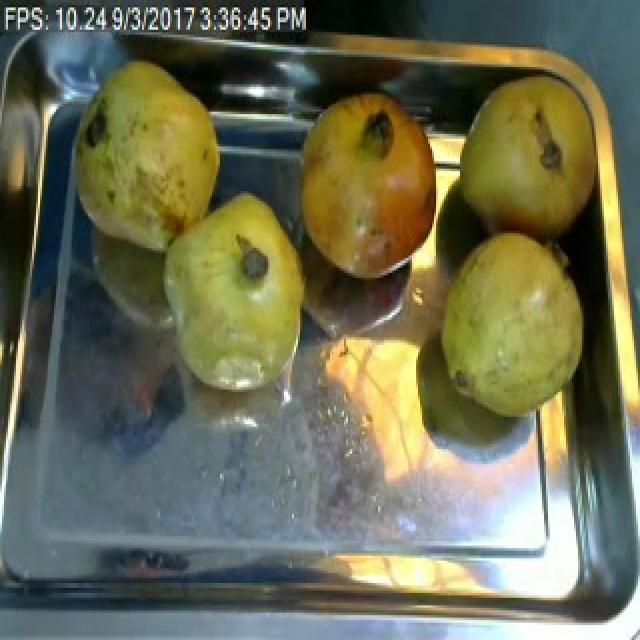fruit: (148, 186, 318, 407), (288, 84, 448, 293), (66, 52, 228, 258), (430, 223, 588, 432), (450, 67, 608, 248)
